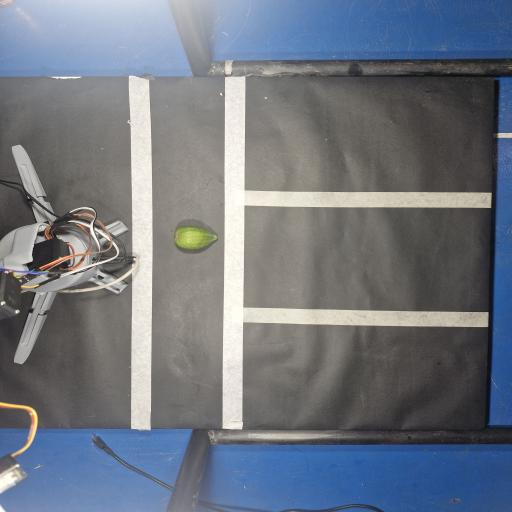higo: (174, 226, 217, 249)
